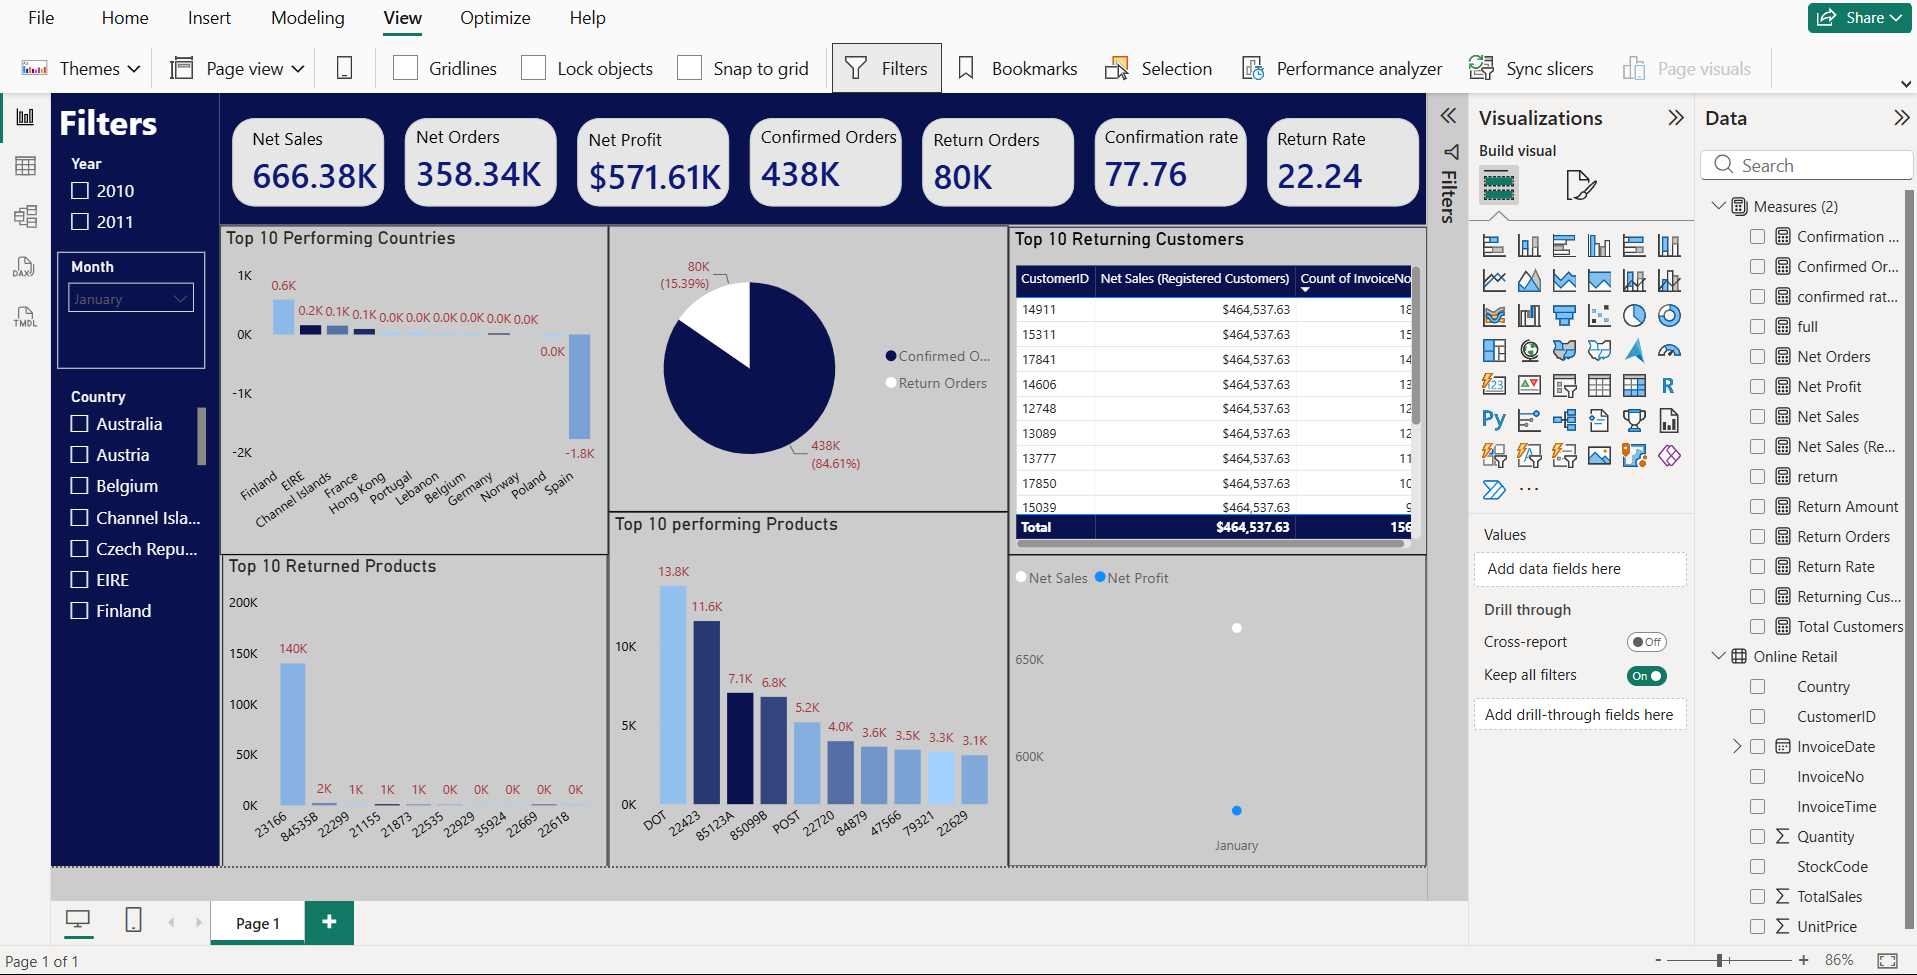

This screenshot's page, from the dashboard's own definition file:
{"tool":"powerbi","page":{"name":"Page 1","canvas":[1280,720],"ordinal":0},"visuals":[{"type":"shape","box":[0,0,156.8,719.9],"z":0},{"type":"shape","box":[156.8,0,1122.1,122.7],"z":1000},{"type":"barChart","fields":{"Category":["Online Retail.CustomerID"]},"box":[158.6,471.5,541.3,249.5],"z":2000},{"type":"slicer","fields":{"Values":["Online Retail.Country"]},"box":[2.3,540.7,143,179.1],"z":3000},{"type":"slicer","fields":{"Values":["Online Retail.InvoiceDate.Variation.Date Hierarchy.Year"]},"box":[2.8,52.4,157.8,105.7],"z":4000},{"type":"lineChart","title":"Net Sales and Net Profit Trend","fields":{"Category":["Online Retail.InvoiceDate.Variation.Date Hierarchy.Year","Online Retail.InvoiceDate.Variation.Date Hierarchy.Quarter","Online Retail.InvoiceDate.Variation.Date Hierarchy.Month","Online Retail.InvoiceDate.Variation.Date Hierarchy.Day"],"Y":["Measures (2).Net Sales","Measures (2).Net Profit"]},"box":[890.3,429.5,388.6,290.4],"z":5000},{"type":"shape","box":[168.8,23.1,141.3,82.3],"z":6000},{"type":"shape","box":[329.1,23.1,141.3,82.3],"z":7000},{"type":"shape","box":[489.5,23.1,141.3,82.3],"z":8000},{"type":"shape","box":[649.9,23.1,141.3,82.3],"z":9000},{"type":"shape","box":[810.2,23.1,141.3,82.3],"z":10000},{"type":"shape","box":[970.6,23.1,141.3,82.3],"z":11000},{"type":"shape","box":[1131,23.1,141.3,82.3],"z":12000},{"type":"cardVisual","fields":{"Data":["Measures (2).Net Sales"]},"box":[157.8,12,227.8,104.3],"z":13000},{"type":"cardVisual","fields":{"Data":["Measures (2).Net Orders"]},"box":[310.1,9.6,227.8,104.3],"z":14000},{"type":"cardVisual","fields":{"Data":["Measures (2).Confirmed Orders"]},"box":[631.2,9.6,196.2,104.3],"z":15000},{"type":"cardVisual","fields":{"Data":["Measures (2).Return Orders"]},"box":[791.8,12.3,196.2,104.3],"z":16000},{"type":"cardVisual","fields":{"Data":["Measures (2).Return Rate"]},"box":[1111.5,12,160.5,104.3],"z":17000},{"type":"cardVisual","fields":{"Data":["Measures (2).Net Profit"]},"box":[470.7,12.3,227.8,104.3],"z":18000},{"type":"cardVisual","fields":{"Data":["Measures (2).Confirmation rate"]},"box":[950.9,9.6,196.2,104.3],"z":19000},{"type":"listSlicer","fields":{"Values":["Online Retail.InvoiceDate.Variation.Date Hierarchy.Month"]},"box":[5.8,139.5,132.6,401.2],"z":20000},{"type":"clusteredColumnChart","title":"Top 10 Returned Products","fields":{"Category":["Online Retail.StockCode"],"Y":["Measures (2).Return Rate"]},"box":[159.5,429.5,358.6,291.8],"z":21000},{"type":"columnChart","title":"Top 10 performing Products","fields":{"Category":["Online Retail.StockCode"],"Y":["Measures (2).Net Sales"]},"box":[518.6,389.5,372.1,330.2],"z":22000},{"type":"tableEx","title":"Top 10 Returning Customers","fields":{"Values":["Online Retail.CustomerID","Measures (2).Net Sales (Registered Customers)","Online Retail.InvoiceNo"]},"box":[890.3,124.1,389.9,305.4],"z":23000},{"type":"textbox","box":[2.8,0,140.2,65.1],"z":24000},{"type":"pieChart","fields":{"Y":["Measures (2).Confirmed Orders","Measures (2).Return Orders"]},"box":[518.6,123.3,372.1,266.3],"z":25000},{"type":"clusteredColumnChart","title":"Top 10 Performing Countries","fields":{"Category":["Online Retail.Country"],"Y":["Measures (2).Net Sales"]},"box":[156.8,122.7,361.3,306.8],"z":26000}]}

Visuals, with their boxes on the page's 1280x720 design canvas (x1, y1, x2, y2). These are canvas units, not pixel positions in the 1917x975 screenshot, which may show the page scaled, cropped or inside an application window:
shape: box(0, 0, 157, 720)
shape: box(157, 0, 1279, 123)
barChart - Online Retail.CustomerID: box(159, 472, 700, 721)
slicer - Online Retail.Country: box(2, 541, 145, 720)
slicer - Online Retail.InvoiceDate.Variation.Date Hierarchy.Year: box(3, 52, 161, 158)
"Net Sales and Net Profit Trend" lineChart: box(890, 430, 1279, 720)
shape: box(169, 23, 310, 105)
shape: box(329, 23, 470, 105)
shape: box(490, 23, 631, 105)
shape: box(650, 23, 791, 105)
shape: box(810, 23, 952, 105)
shape: box(971, 23, 1112, 105)
shape: box(1131, 23, 1272, 105)
cardVisual - Measures (2).Net Sales: box(158, 12, 386, 116)
cardVisual - Measures (2).Net Orders: box(310, 10, 538, 114)
cardVisual - Measures (2).Confirmed Orders: box(631, 10, 827, 114)
cardVisual - Measures (2).Return Orders: box(792, 12, 988, 117)
cardVisual - Measures (2).Return Rate: box(1112, 12, 1272, 116)
cardVisual - Measures (2).Net Profit: box(471, 12, 698, 117)
cardVisual - Measures (2).Confirmation rate: box(951, 10, 1147, 114)
listSlicer - Online Retail.InvoiceDate.Variation.Date Hierarchy.Month: box(6, 140, 138, 541)
"Top 10 Returned Products" clusteredColumnChart: box(160, 430, 518, 721)
"Top 10 performing Products" columnChart: box(519, 390, 891, 720)
"Top 10 Returning Customers" tableEx: box(890, 124, 1280, 430)
textbox: box(3, 0, 143, 65)
pieChart - Measures (2).Confirmed Orders x Measures (2).Return Orders: box(519, 123, 891, 390)
"Top 10 Performing Countries" clusteredColumnChart: box(157, 123, 518, 430)
